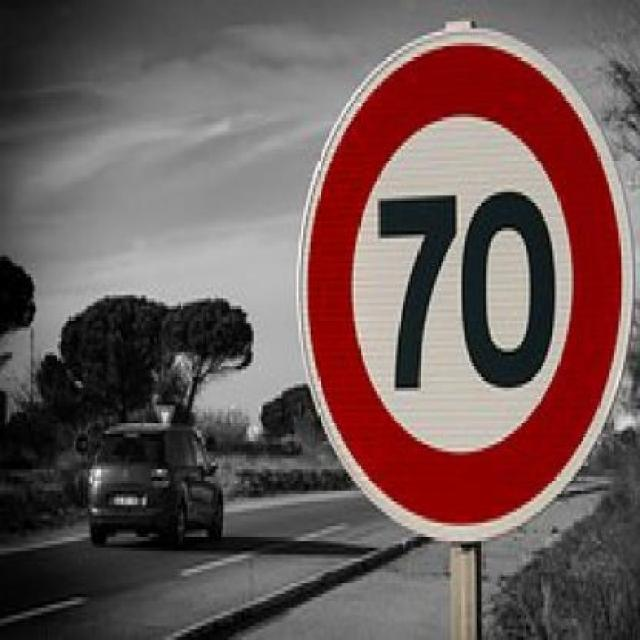forb_speed_over_70: (339, 117, 596, 466)
